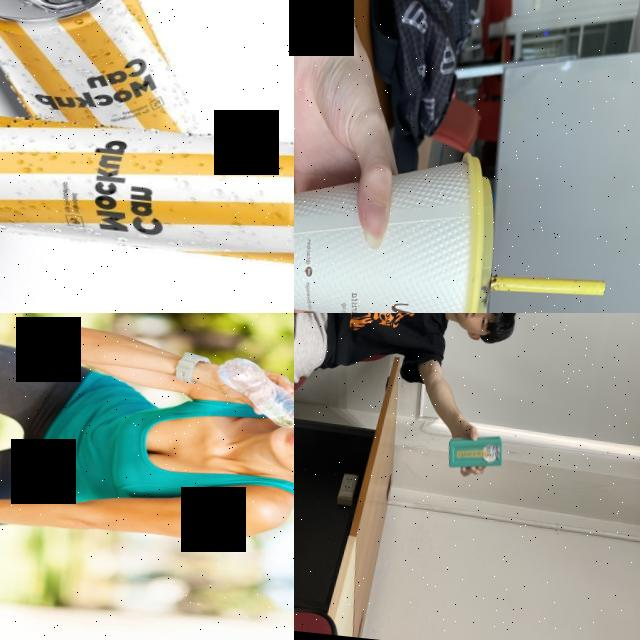bottle: (209, 354, 294, 433)
can: (0, 102, 294, 271), (0, 0, 215, 136)
cup: (294, 129, 504, 313)
